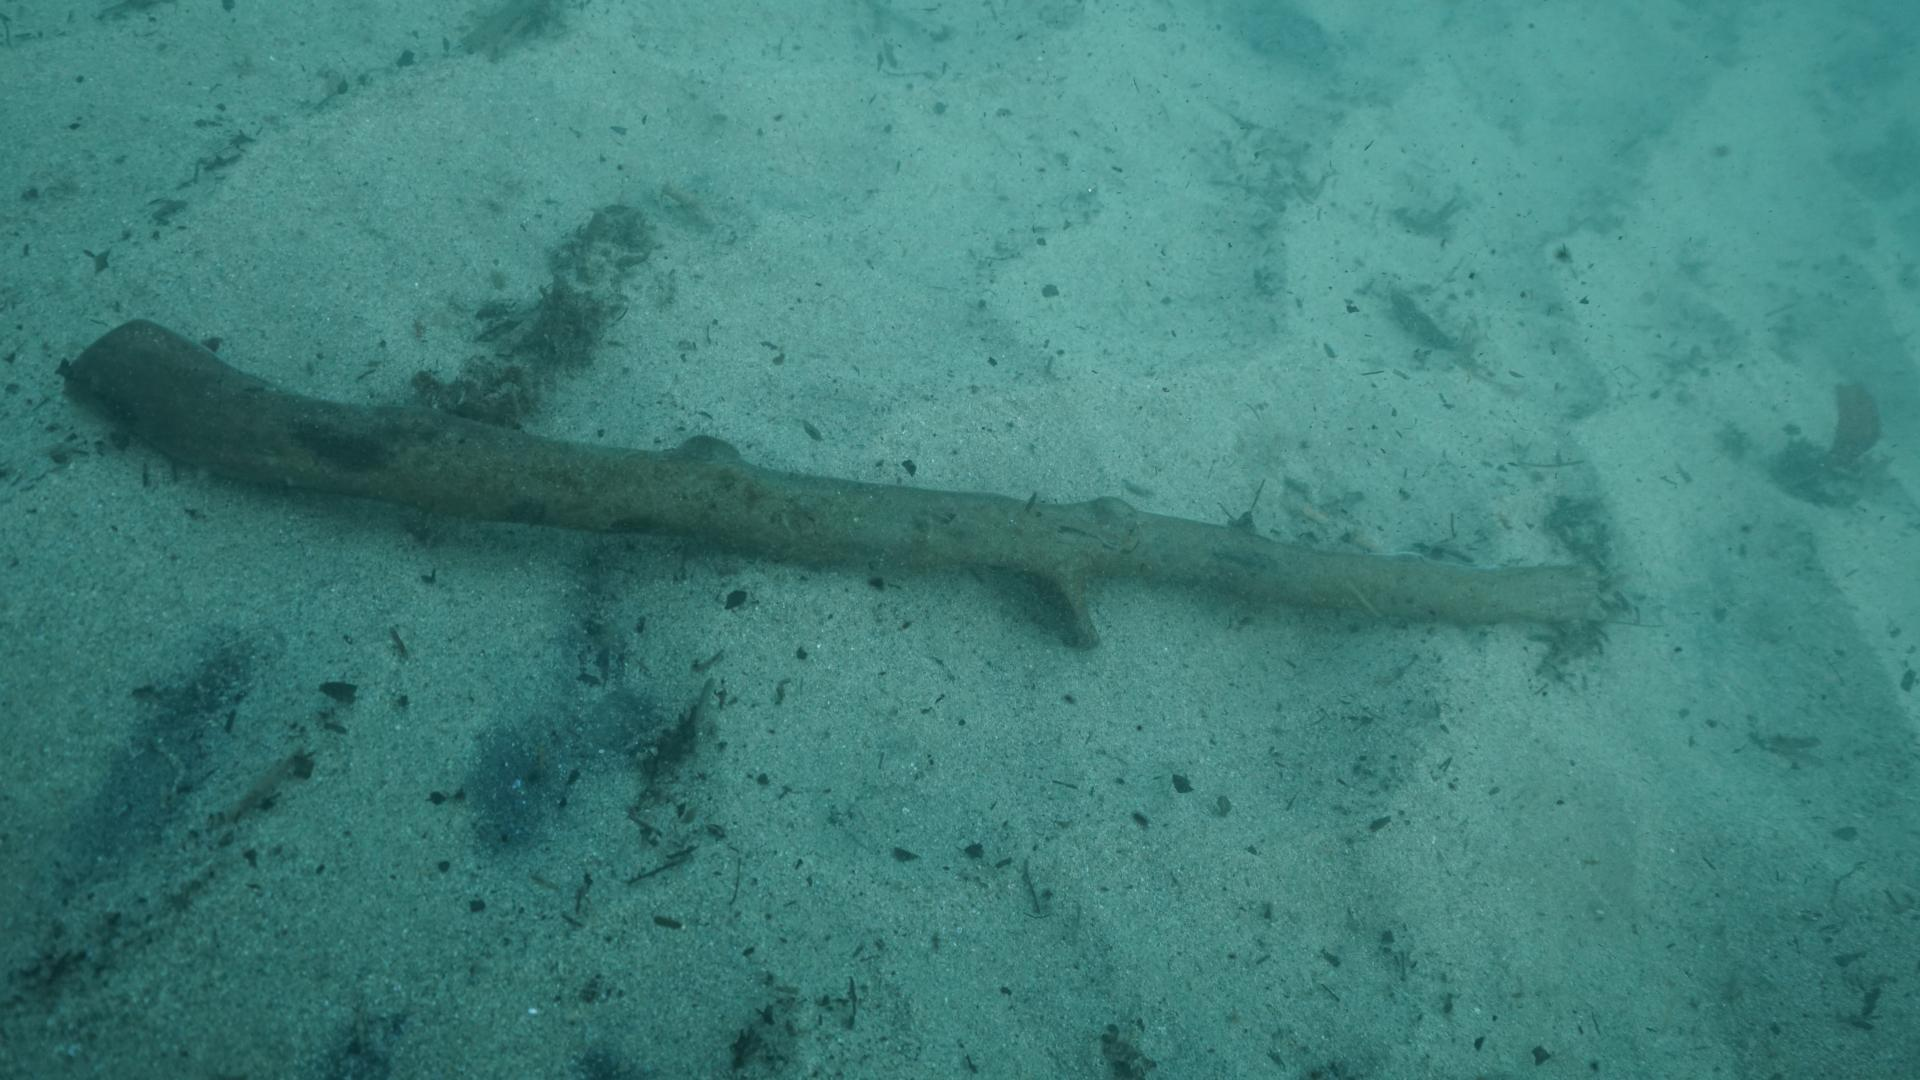wood: (55, 319, 1596, 650)
